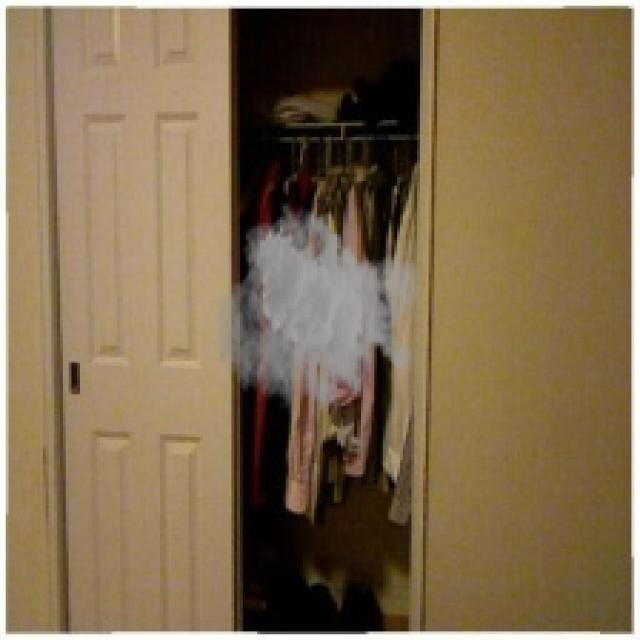Smoke: (214, 200, 423, 432)
